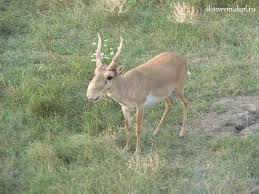saiga: (84, 33, 190, 157)
